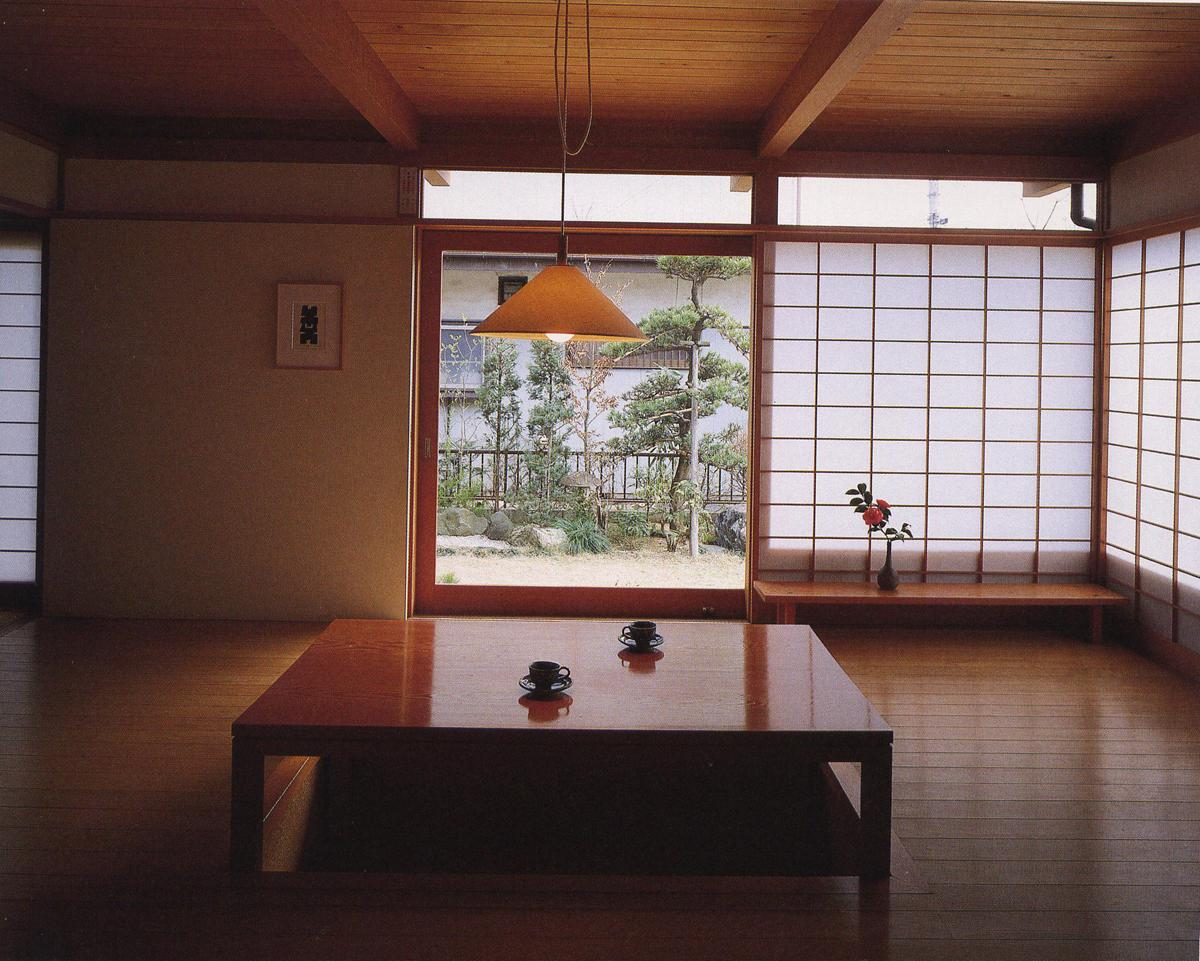Puerta: (424, 252, 745, 612)
